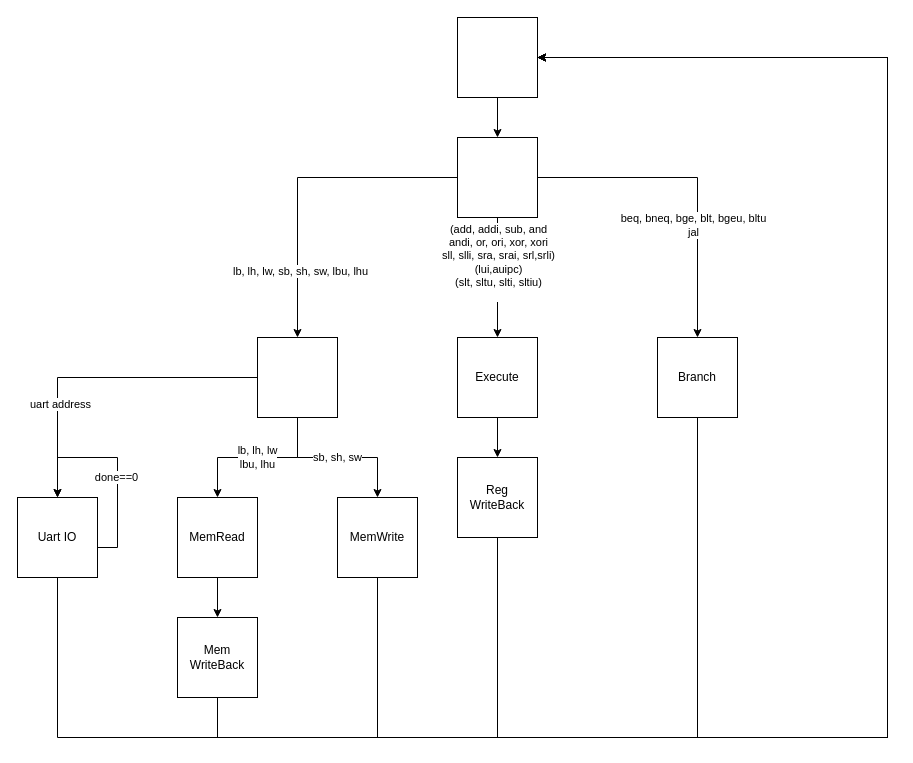
Some shapes in this 913 by 763 pixel diagram are drawn without their labels. Each missing label, with the centre of its shape:
Decodes: pixel 497 177
Fetch: pixel 497 57
MemAddr: pixel 297 377
